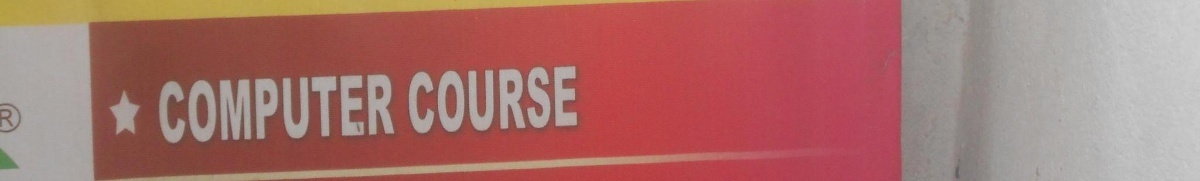text: (161, 68, 176, 151), (177, 68, 192, 151), (193, 68, 208, 151), (209, 68, 224, 151), (225, 68, 240, 151), (241, 68, 256, 151), (257, 68, 272, 151), (273, 68, 288, 151), (289, 68, 304, 151), (305, 68, 320, 151), (321, 68, 336, 151), (337, 68, 352, 151), (353, 68, 368, 151), (369, 68, 384, 151), (385, 68, 400, 151), (417, 65, 432, 139), (433, 65, 448, 139), (449, 65, 464, 139), (465, 65, 480, 139), (481, 65, 496, 139), (497, 65, 512, 139), (513, 65, 528, 139), (529, 65, 544, 139), (545, 65, 560, 139), (561, 65, 576, 139), (405, 65, 416, 139), (153, 68, 160, 151), (577, 65, 584, 139), (3, 101, 16, 136), (17, 101, 22, 136), (401, 68, 402, 151)
